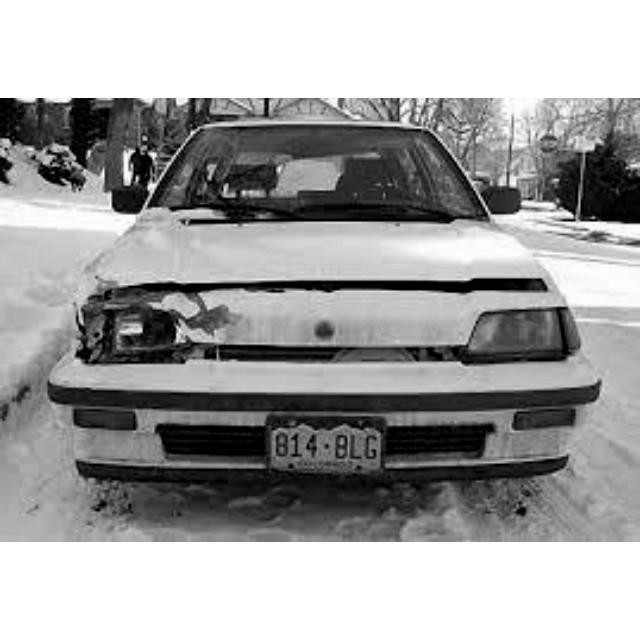Headlight-damage: (80, 272, 217, 376)
